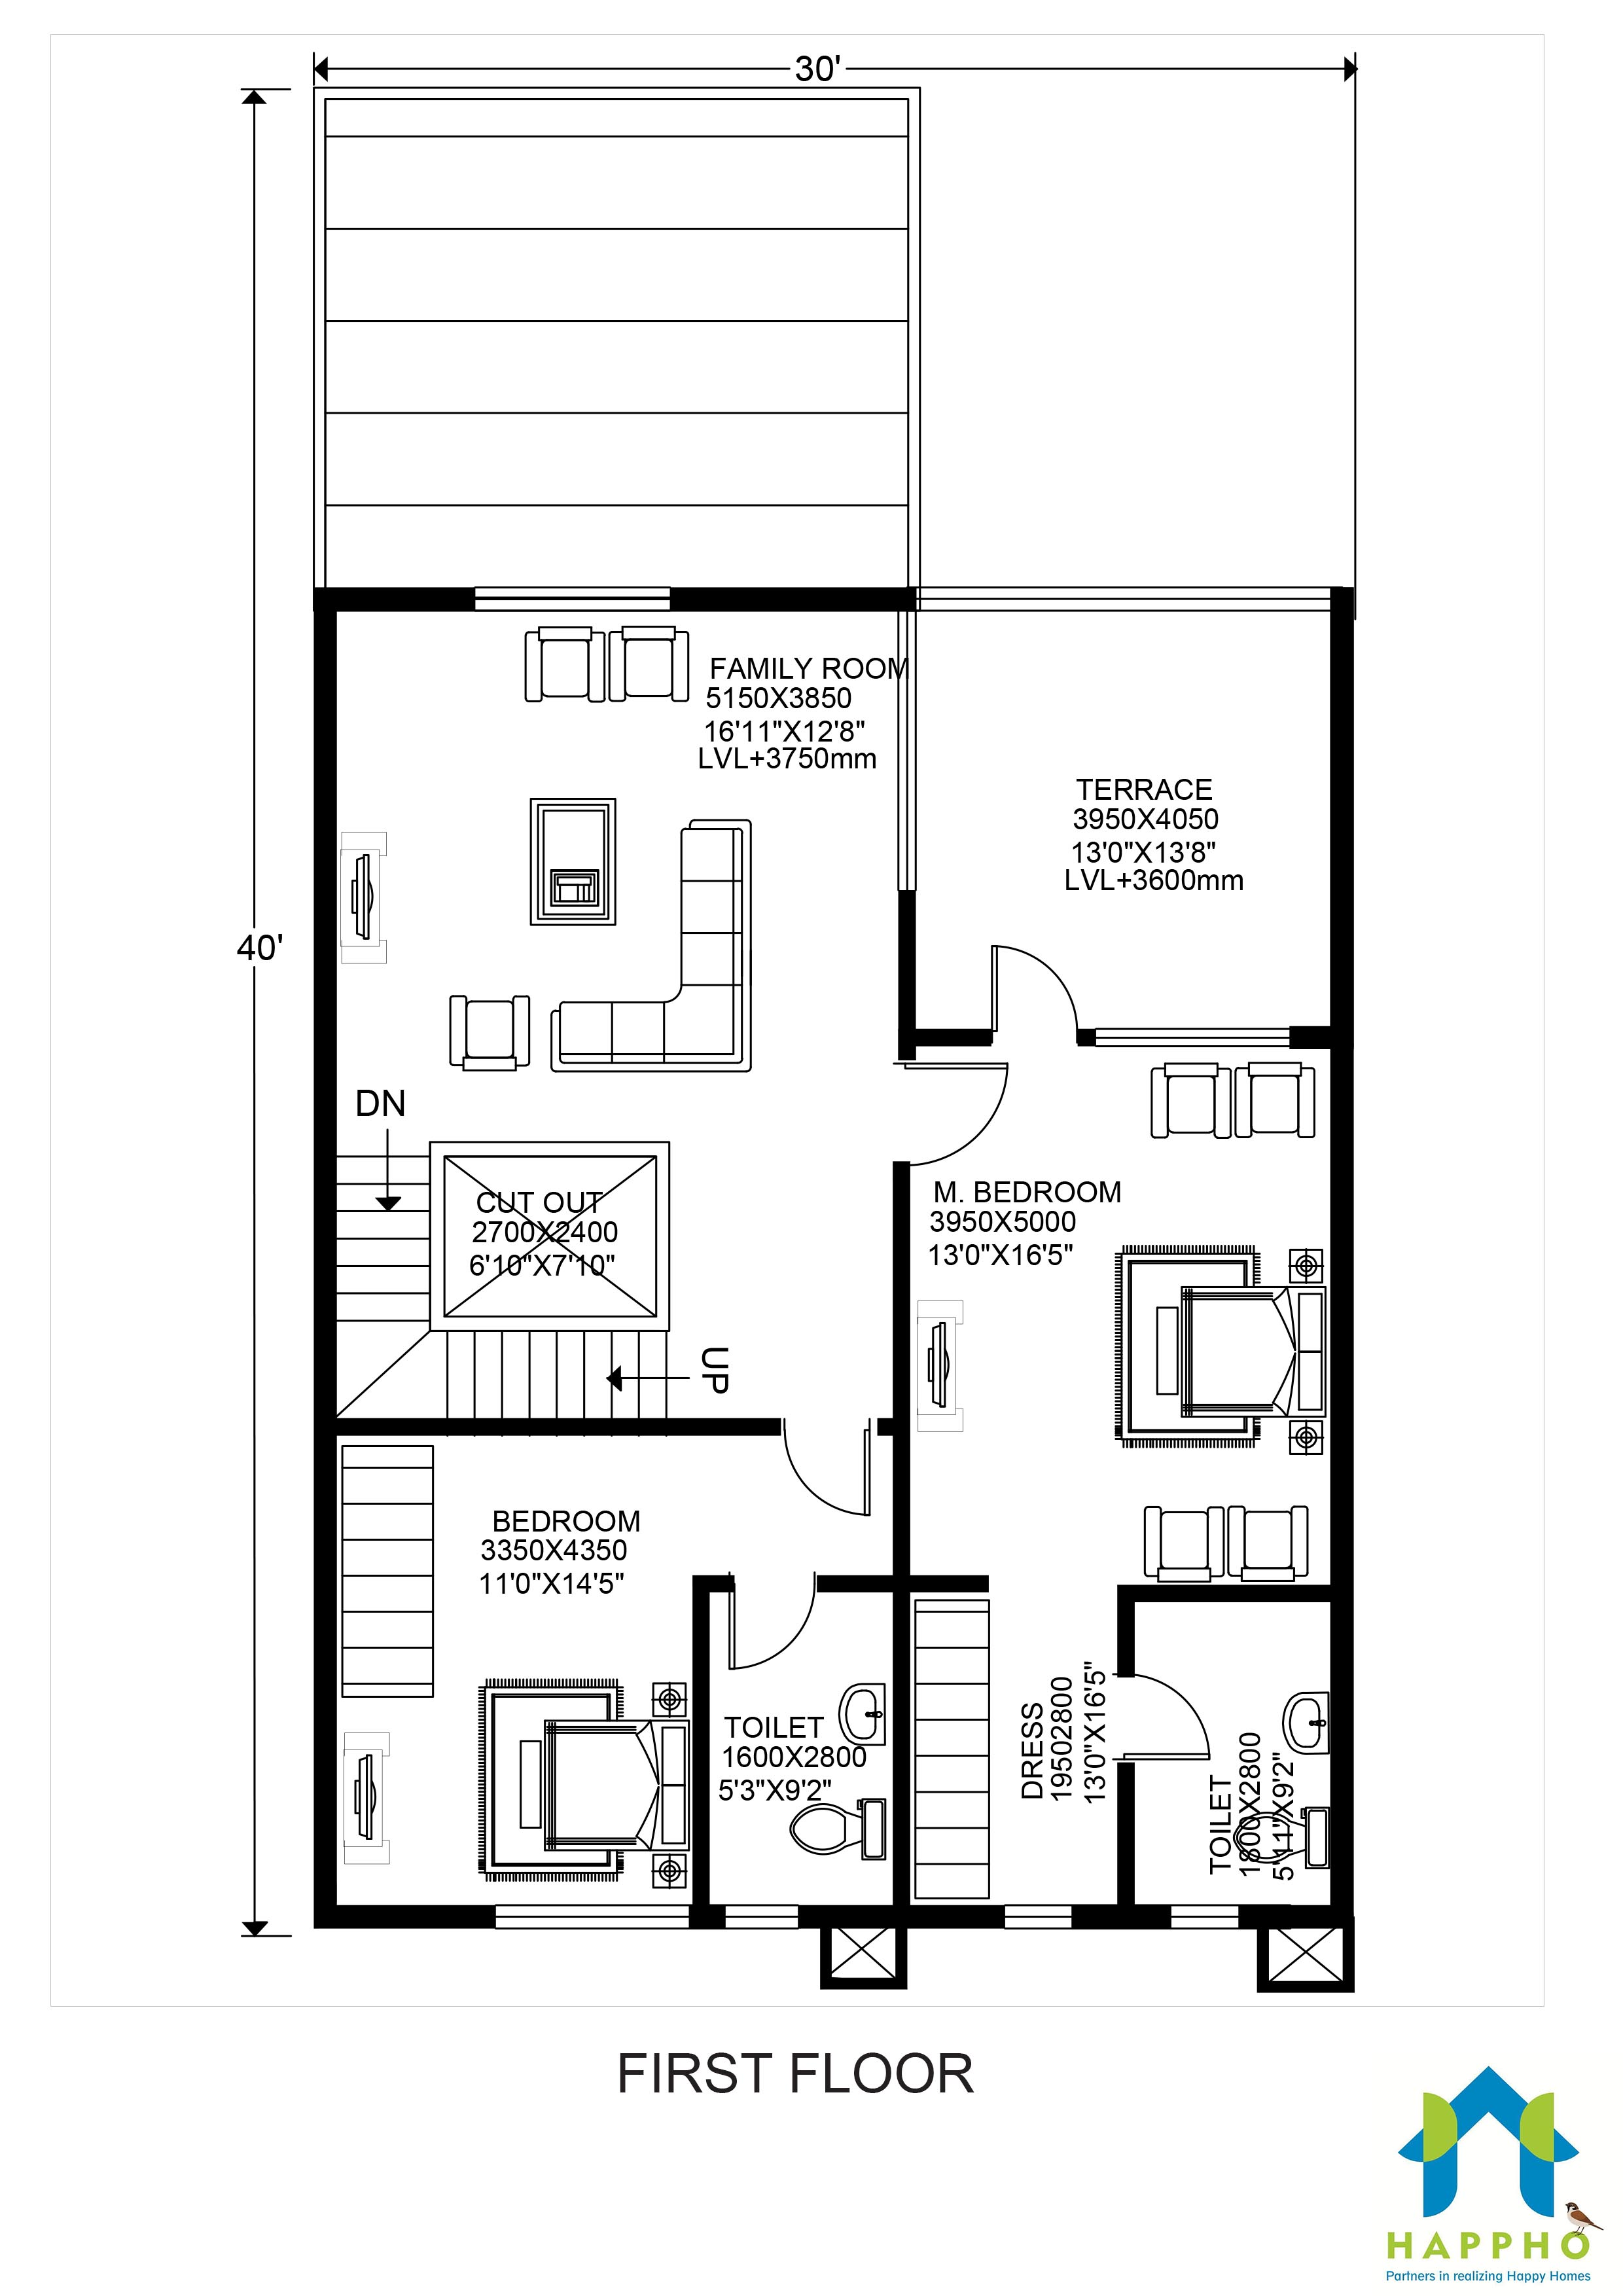window: (910, 583, 1337, 618), (488, 1901, 699, 1934), (467, 583, 678, 615), (1094, 1022, 1303, 1054), (720, 1903, 803, 1931), (996, 1901, 1078, 1929), (1166, 1901, 1240, 1931)
